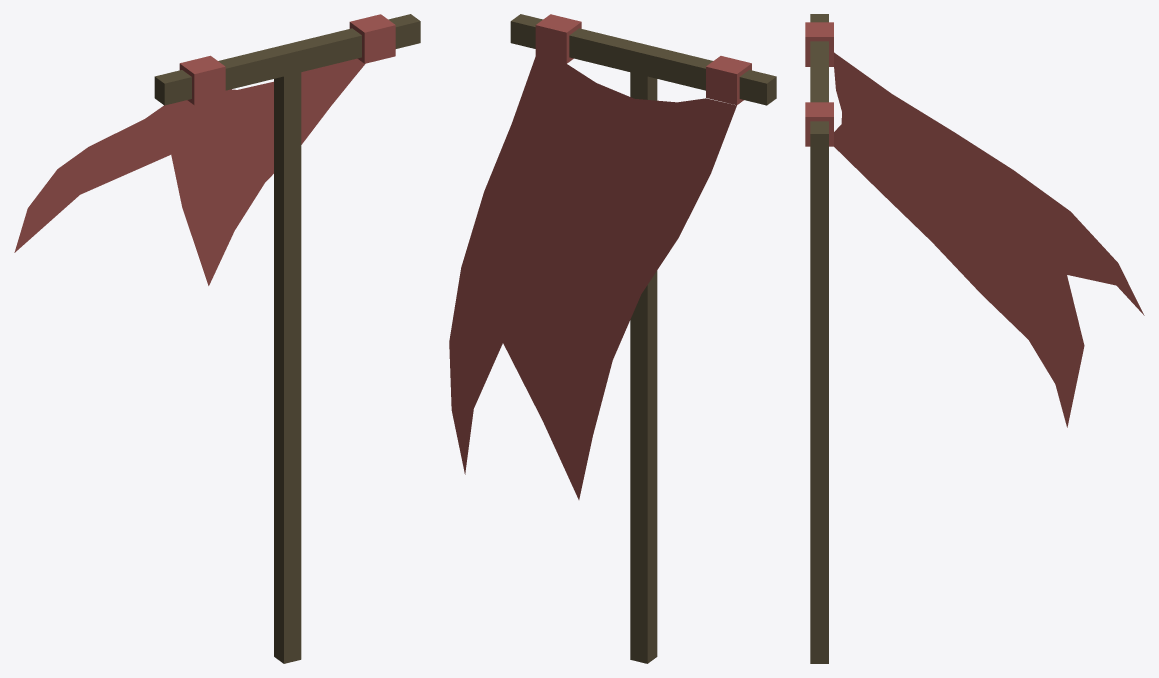
The model's file is WarBanner.fbx.
3 renders of one model, left to right at view 1: azimuth 30°, elevation 25°; view 2: azimuth 150°, elevation 25°; view 3: azimuth 270°, elevation 25°, orthographic. The views are drawn at different scales.
Visible parts, largest first — view 1: WarBannerStick, WarBanner; view 2: WarBanner, WarBannerStick; view 3: WarBanner, WarBannerStick.
Boxes of the visible parts, x1,y1,x2,y2 form: WarBannerStick: [154, 14, 420, 663]; WarBanner: [14, 58, 365, 285]; WarBanner: [449, 56, 736, 499]; WarBannerStick: [510, 14, 776, 663]; WarBanner: [834, 52, 1144, 427]; WarBannerStick: [805, 14, 833, 663].
Size of the model in its own units: 84.45 by 193 by 101.
